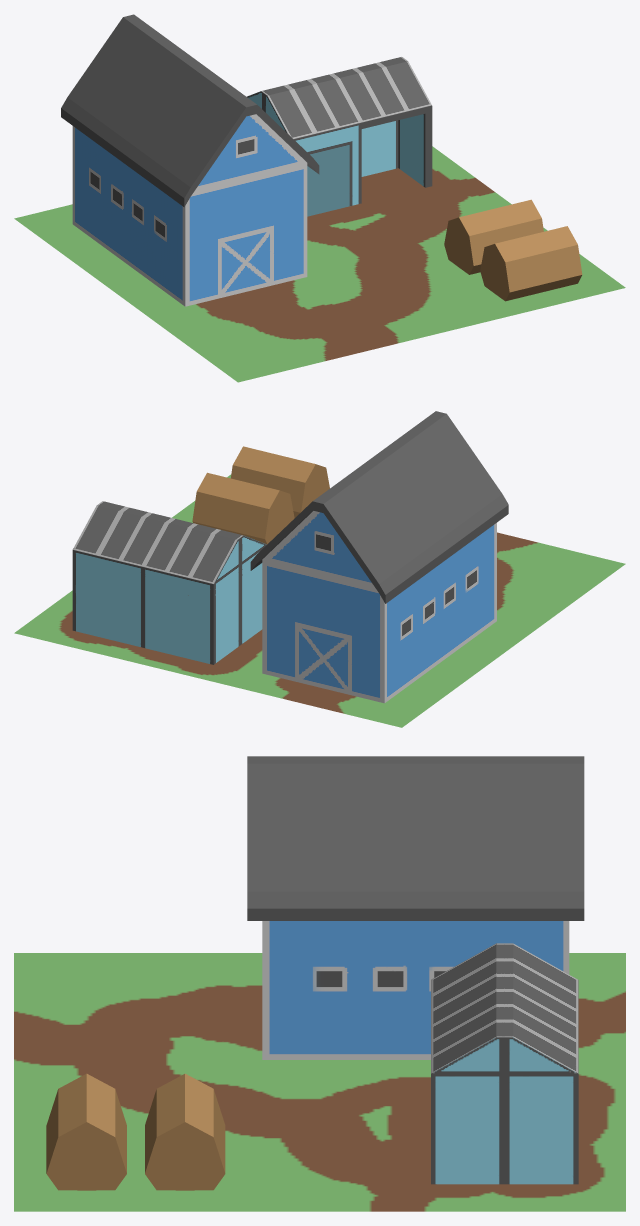
The model's file is FarmB.fbx.
The picture shows the model from 3 angles, top to bottom: view 1: azimuth 30°, elevation 25°; view 2: azimuth 150°, elevation 25°; view 3: azimuth 270°, elevation 25°; orthographic projection. The views are drawn at different scales.
Visible parts, largest first — view 1: Farm B, Farm_Ground B; view 2: Farm B, Farm_Ground B; view 3: Farm B, Farm_Ground B.
Part boxes in pixels (<box>): Farm B: <box>61,14,582,306</box>; Farm_Ground B: <box>14,146,625,382</box>; Farm B: <box>72,411,508,703</box>; Farm_Ground B: <box>14,474,625,727</box>; Farm B: <box>46,756,584,1190</box>; Farm_Ground B: <box>14,953,625,1211</box>.
Size of the model in its own units: 445 by 208 by 445.
